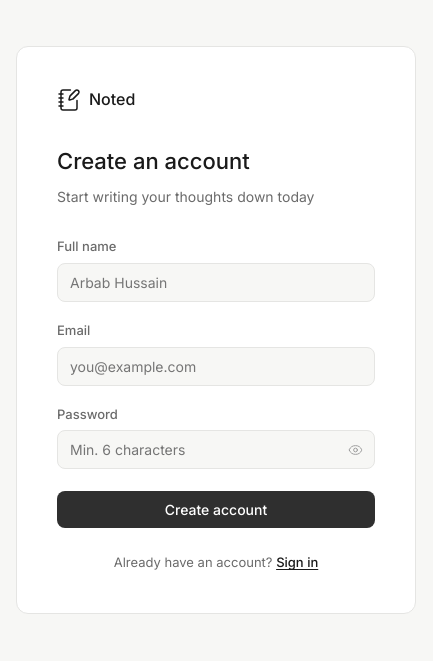
Test: Signup Page › should show error on failed registration
Type "John Doe" into the field with placeholder "Arbab Hussain" at (216,282), box 57,263 -> 375,302
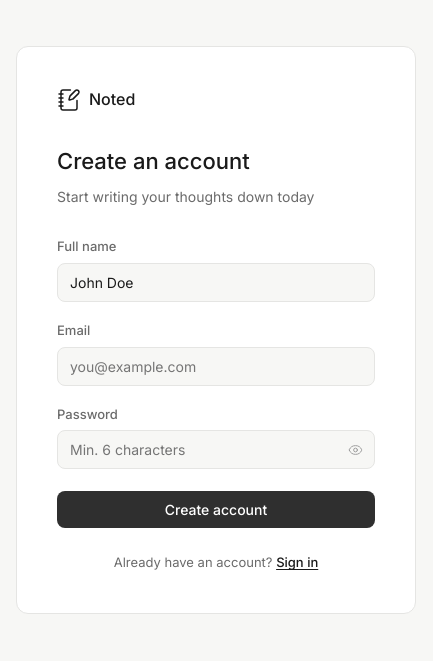
Type "john@example.com" into the field with placeholder "you@example.com" at (216,366), box 57,347 -> 375,386
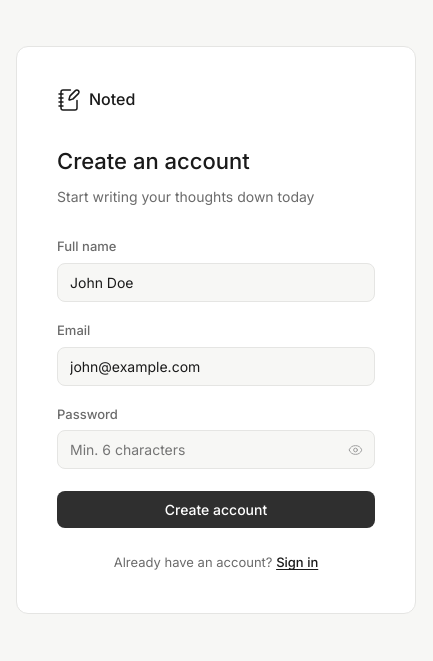
Type "123456" into the password field with placeholder "Min. 6 characters" at (216,450), box 57,430 -> 375,469
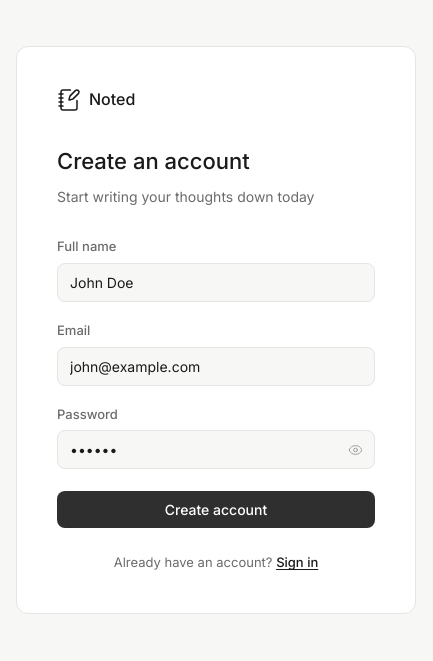
Click the button "Create account" at (216,510), box 57,491 -> 375,528
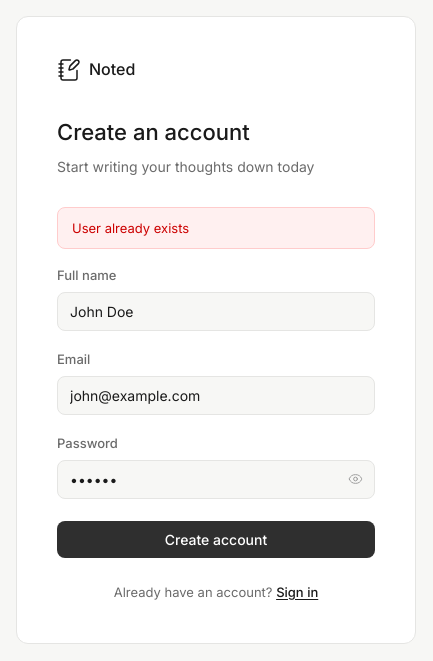
Now the text "User already exists" is shown, box 57,207 -> 375,249
